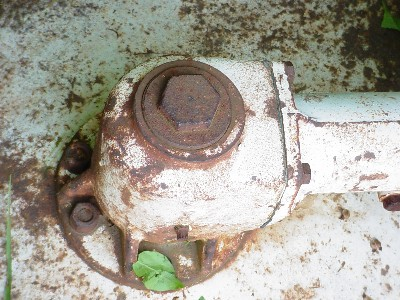bolt_a: (156, 71, 222, 131)
vague: (66, 199, 102, 236)
